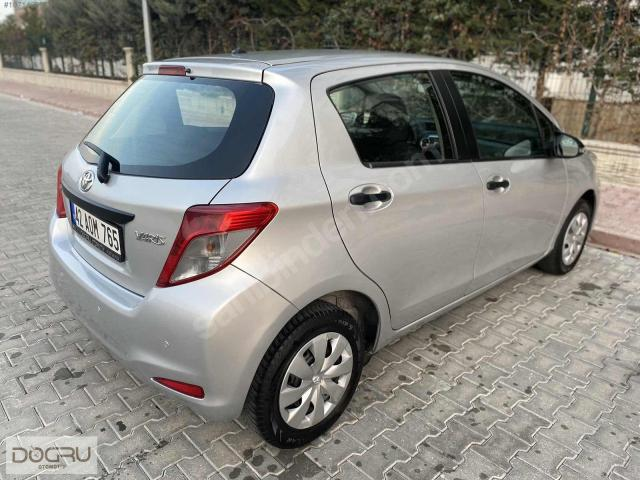plaka: (72, 205, 121, 255)
